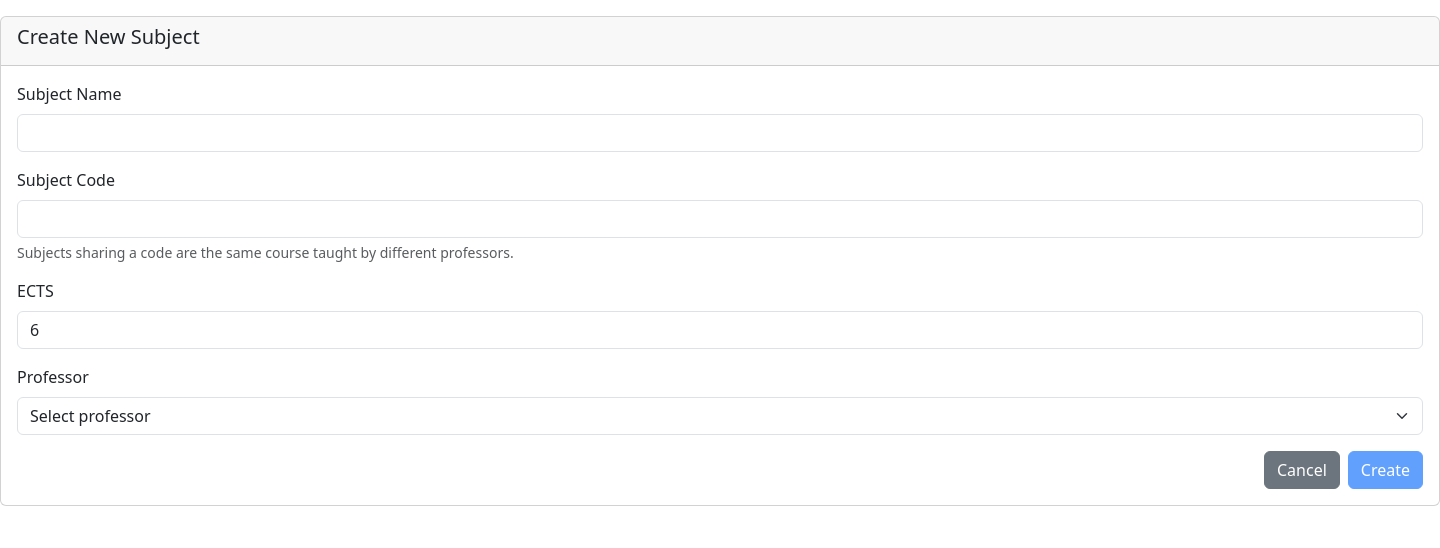
Test: SubjectCreateForm — SubjectCode field (UI §8.4) › shows an ECTS required error when the field is cleared
The width and height of the screenshot is (1440, 548).
Clear the number field labelled "ECTS": (720, 330) [17,311,1423,349]
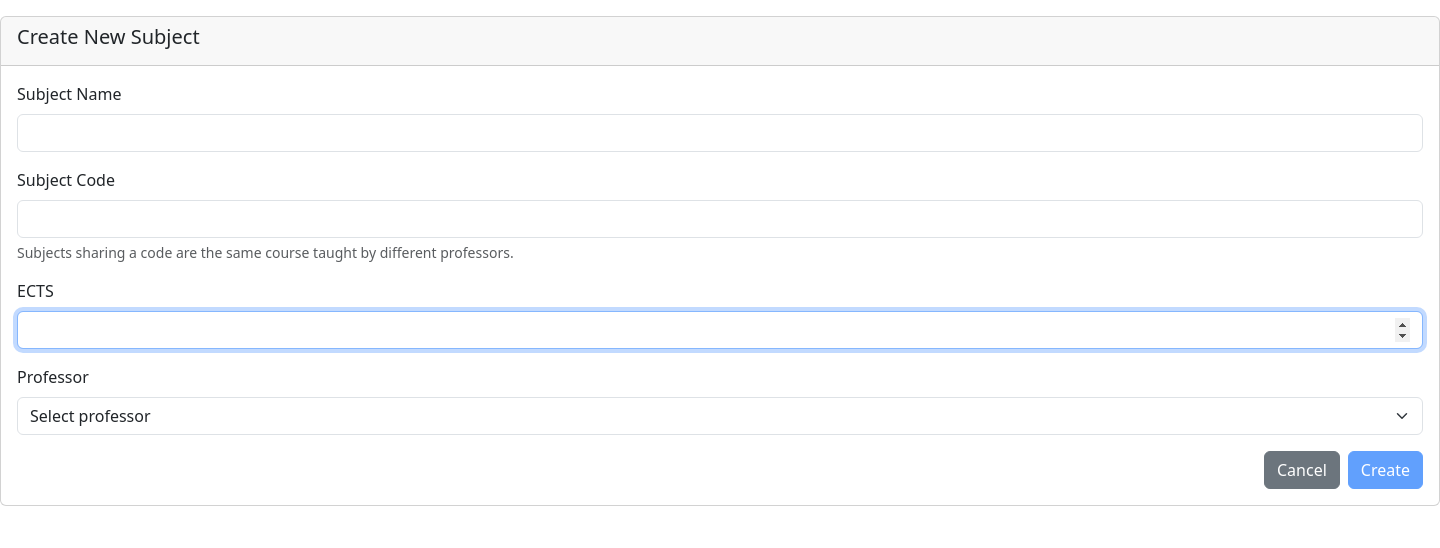
Press Tab
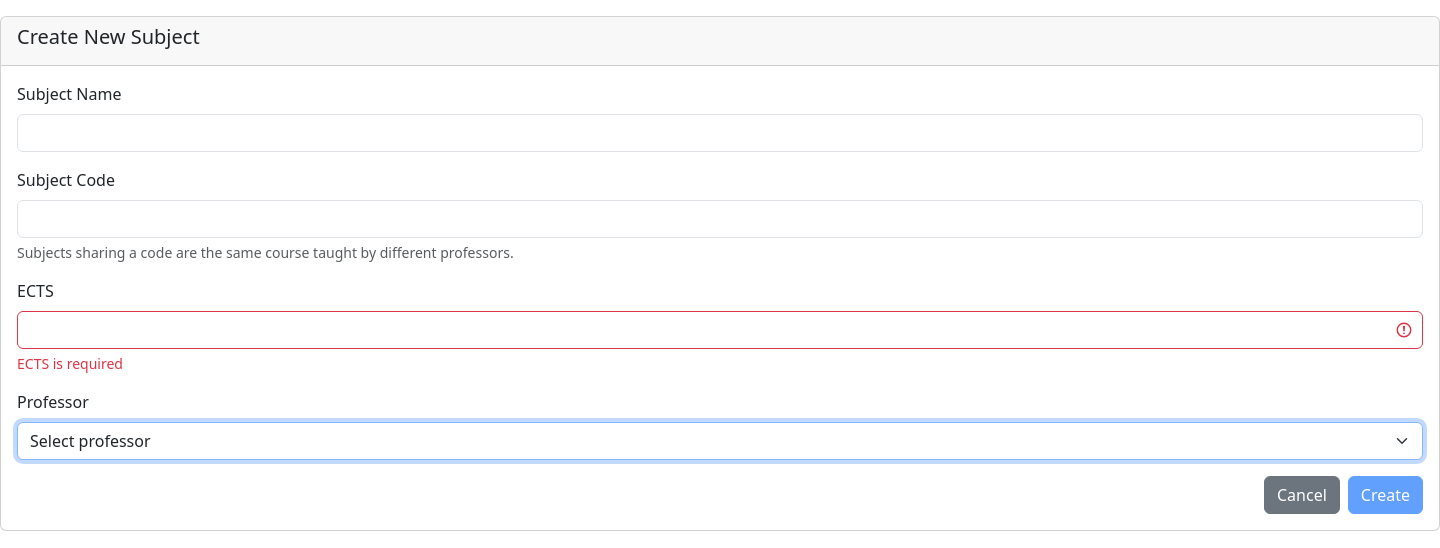
Now the text "ECTS is required" is shown, box [17,354,123,373]
